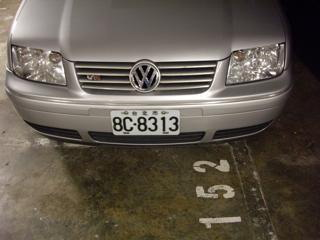plate: (108, 107, 182, 138)
